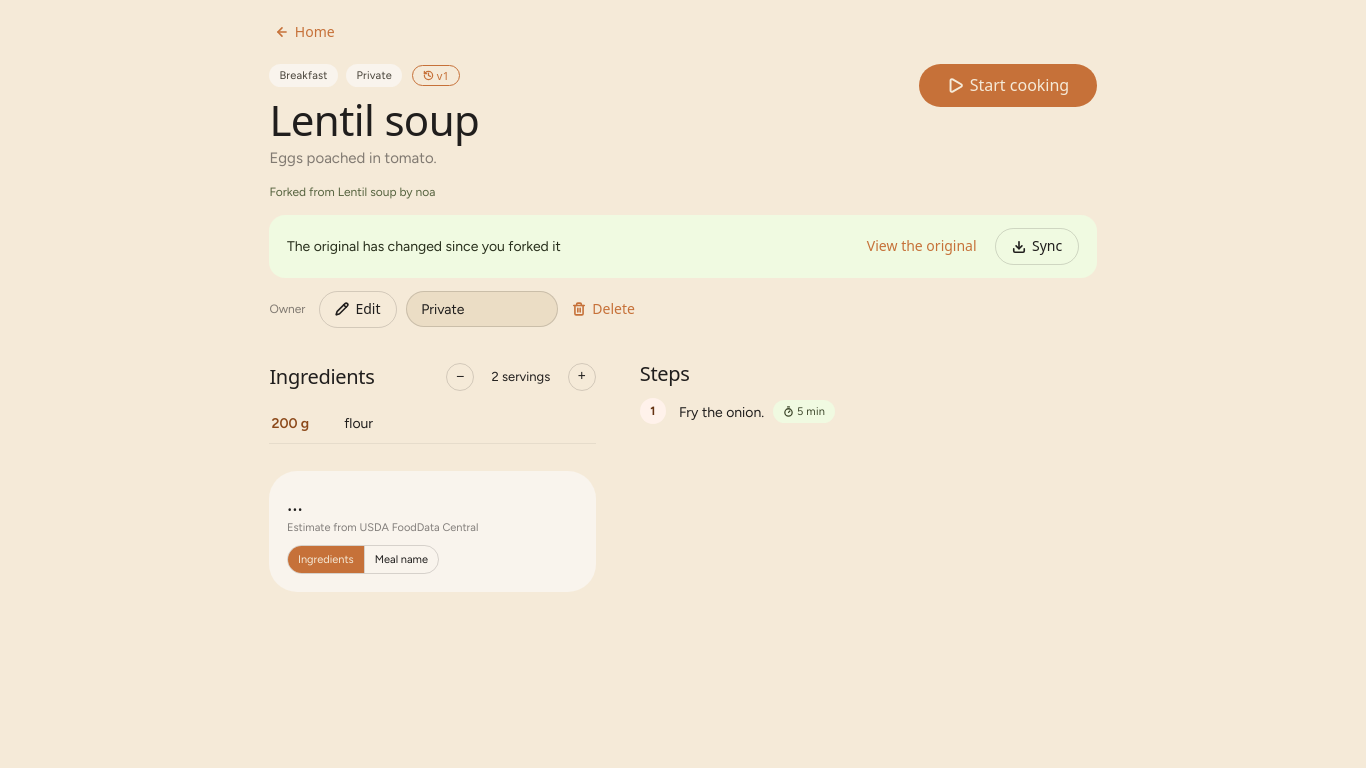
Test: RecipeDetailScreen › UI-29 asks before a fork syncs, and Cancel leaves the fork as it is
Click the button "Sync" at (1037, 247), box [995, 228, 1079, 265]
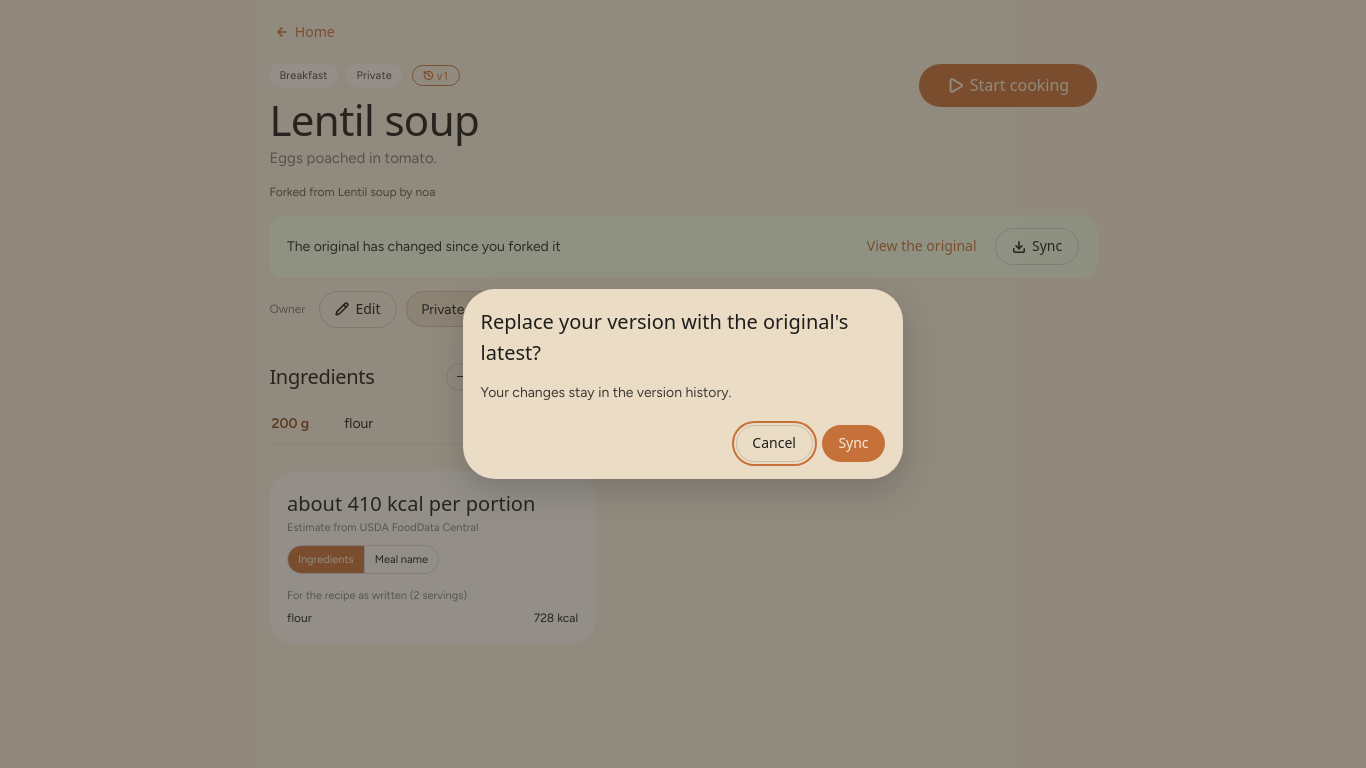
Expected: the text "Replace your version with the original's latest?" is shown, [481, 306, 885, 368]
Expected: the text "Your changes stay in the version history." is shown, [481, 384, 732, 401]
Click the button "Cancel" at (774, 443), box [736, 425, 813, 462]
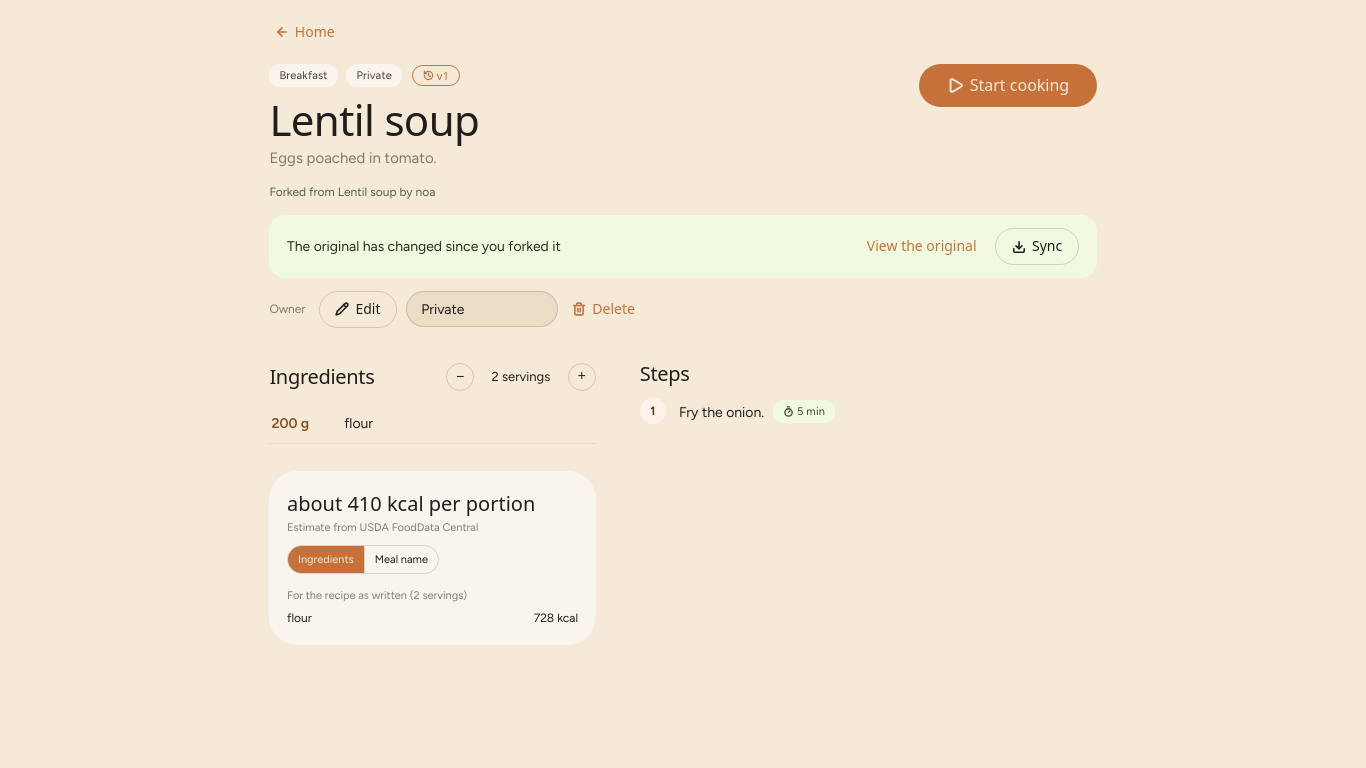
Expected: the text "The original has changed since you forked it" is shown, [287, 238, 561, 255]
Expected: the dialog is gone
Click the button "Sync" at (1037, 247), box [995, 228, 1079, 265]
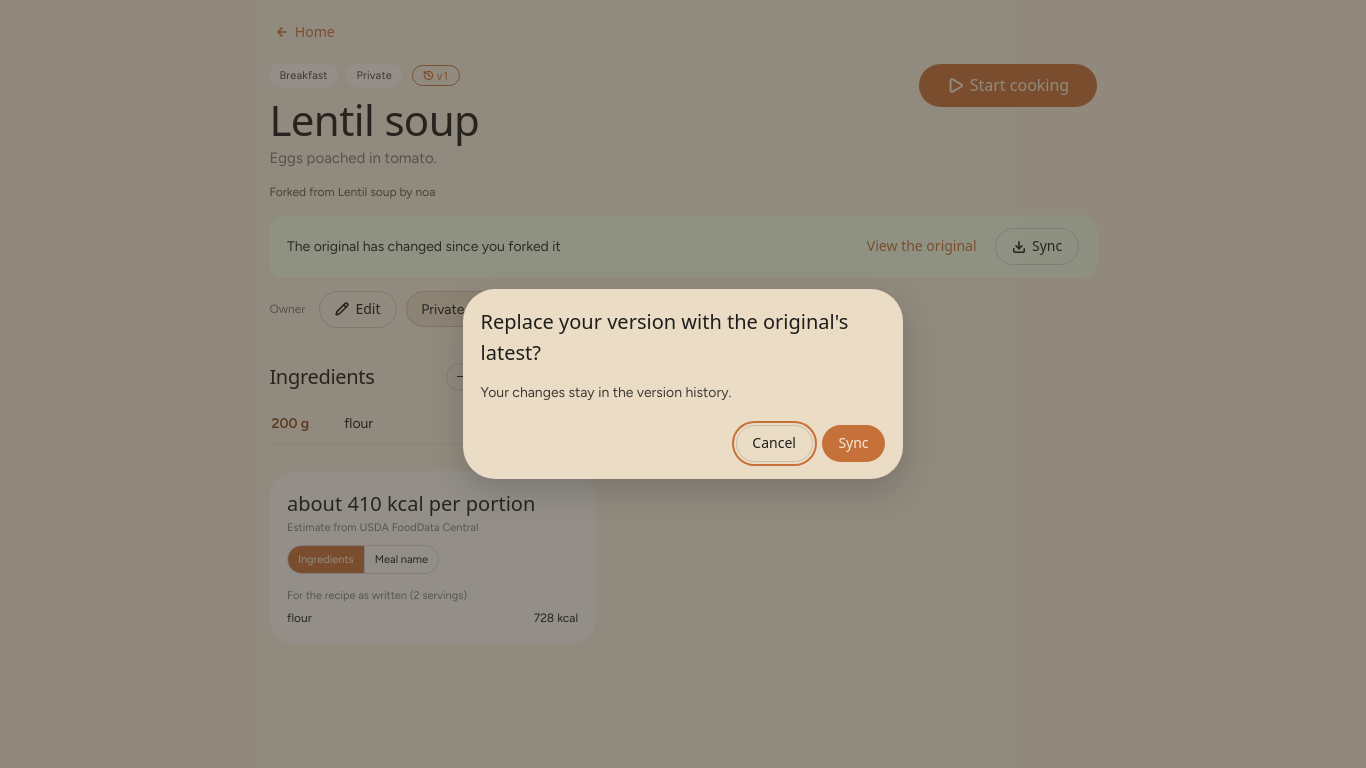
Click the button "Sync" at (853, 443), box [822, 425, 885, 462]
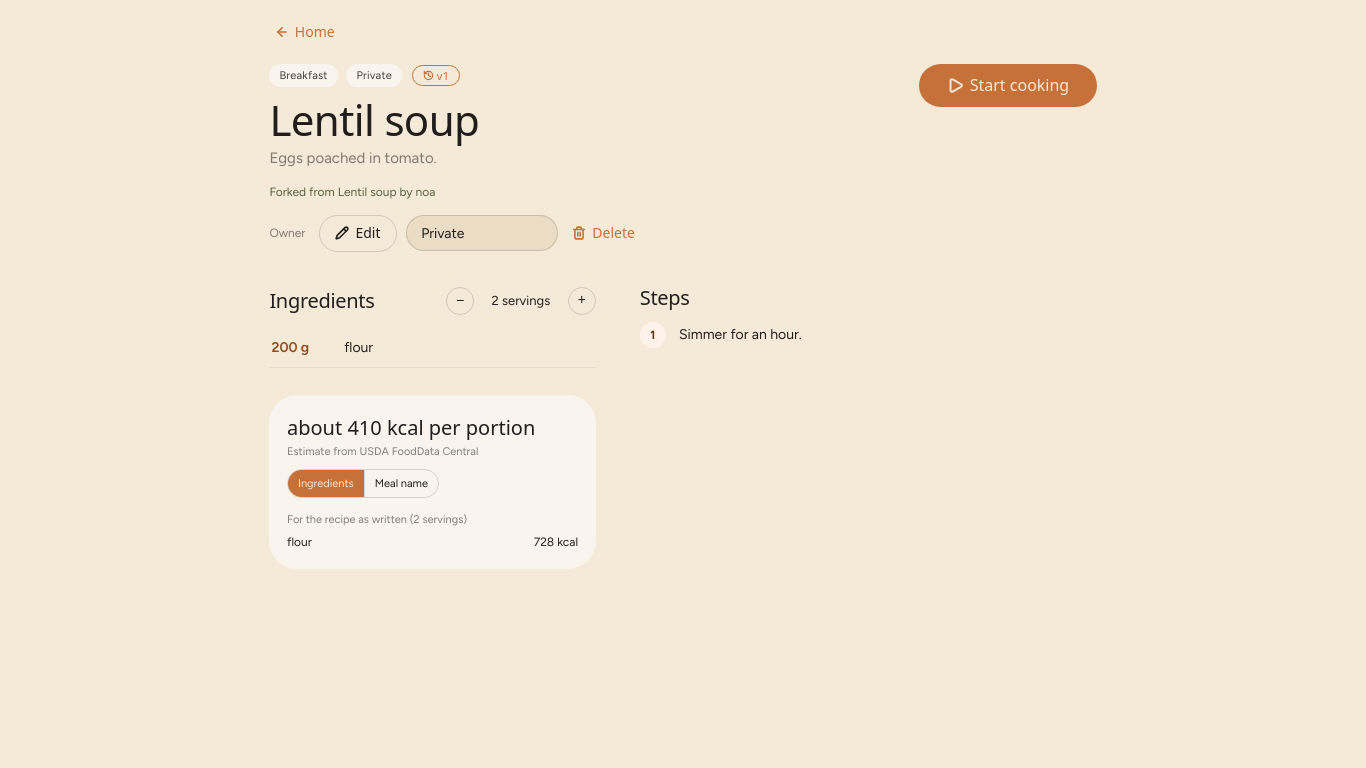
Expected: the text "Simmer for an hour." is shown, [679, 326, 802, 343]
Expected: the dialog is gone
